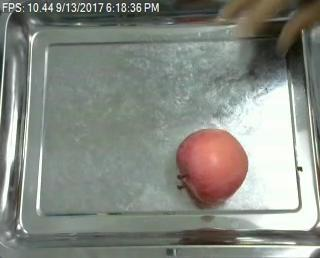apple: (176, 129, 249, 205)
